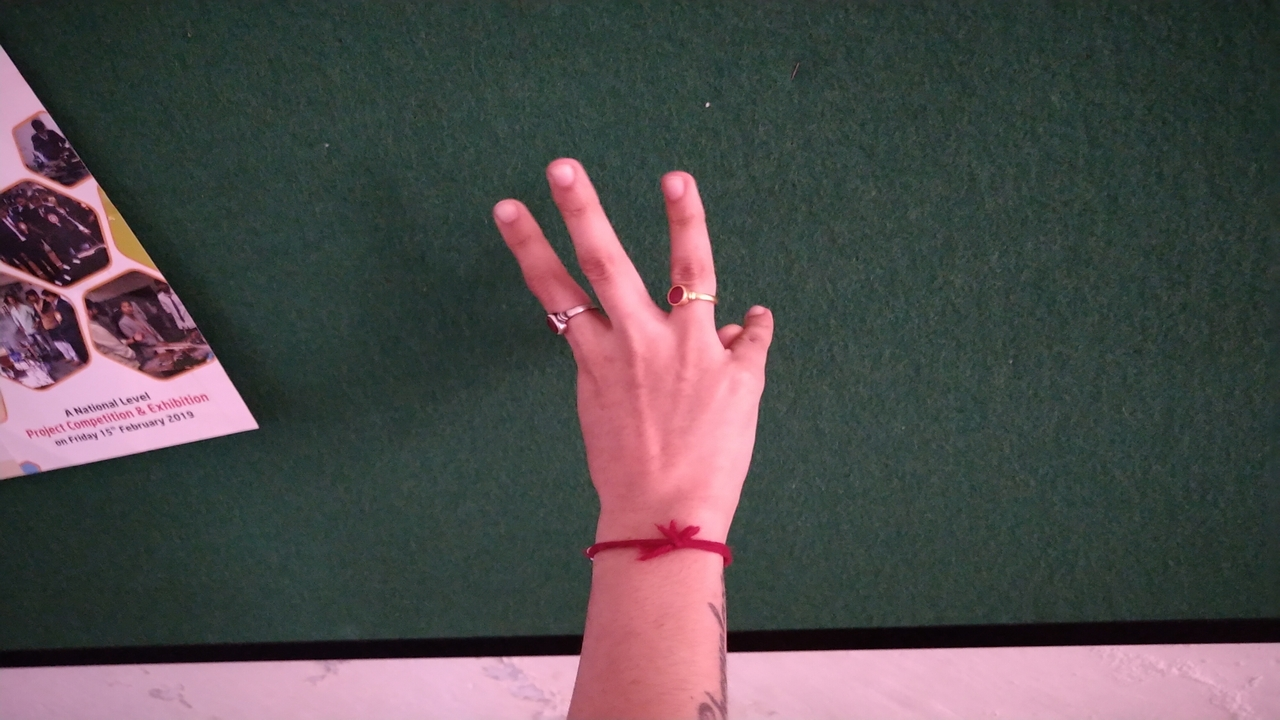fingertip: (722, 292, 786, 348), (536, 150, 598, 204), (484, 186, 540, 242), (652, 158, 708, 206)
